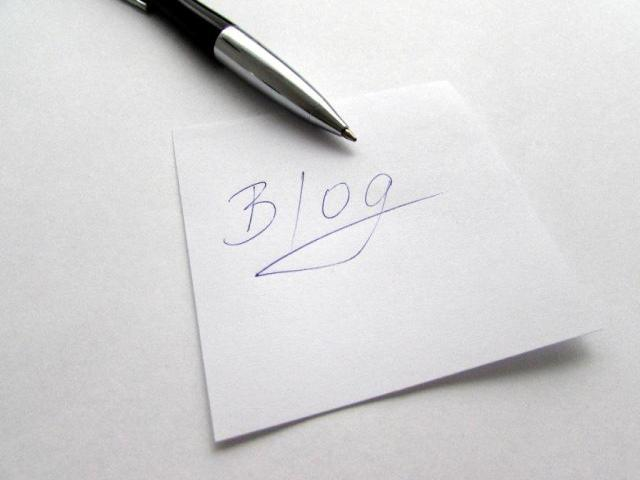PEN: (96, 0, 367, 149)
